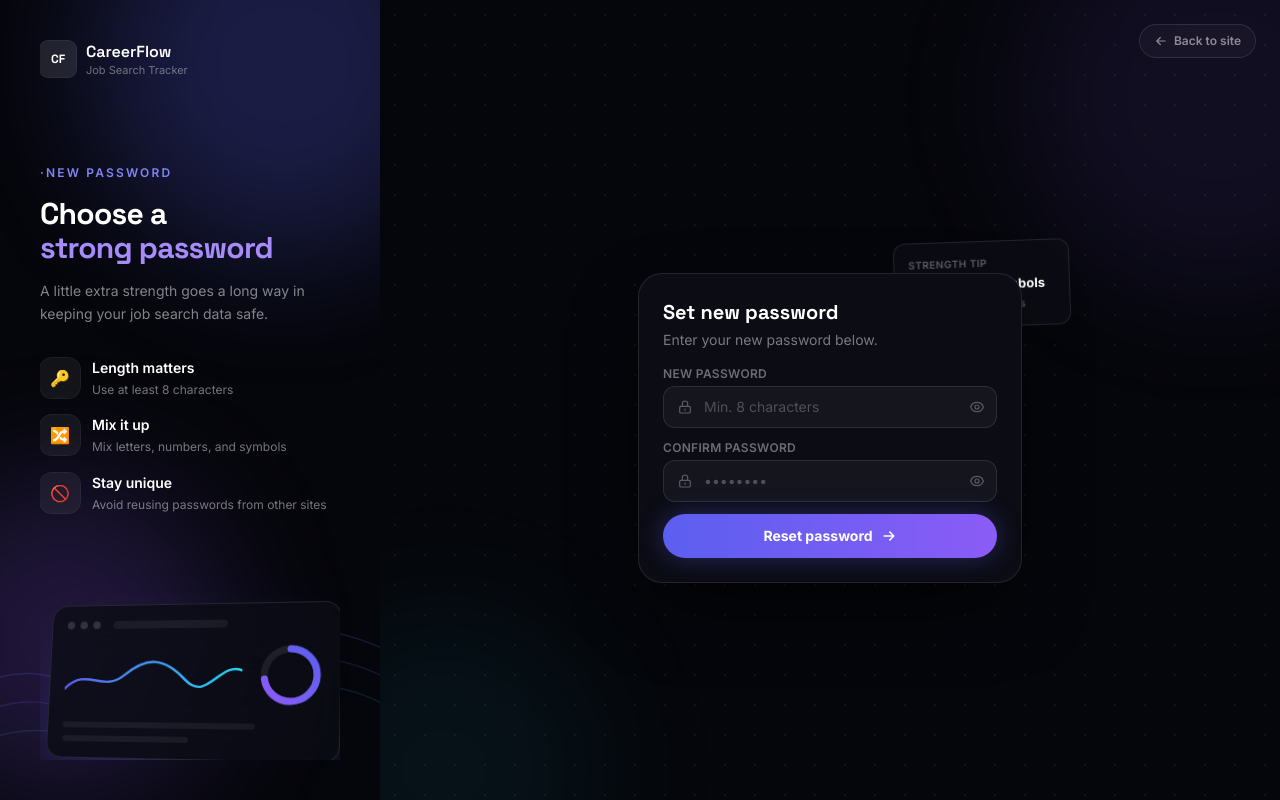
Test: ResetPassword › shows the server message when the reset fails
This screenshot has width=1280, height=800.
Type "newpass123" into the password field with placeholder "Min. 8 characters" at (830, 407), box [663,386,997,428]
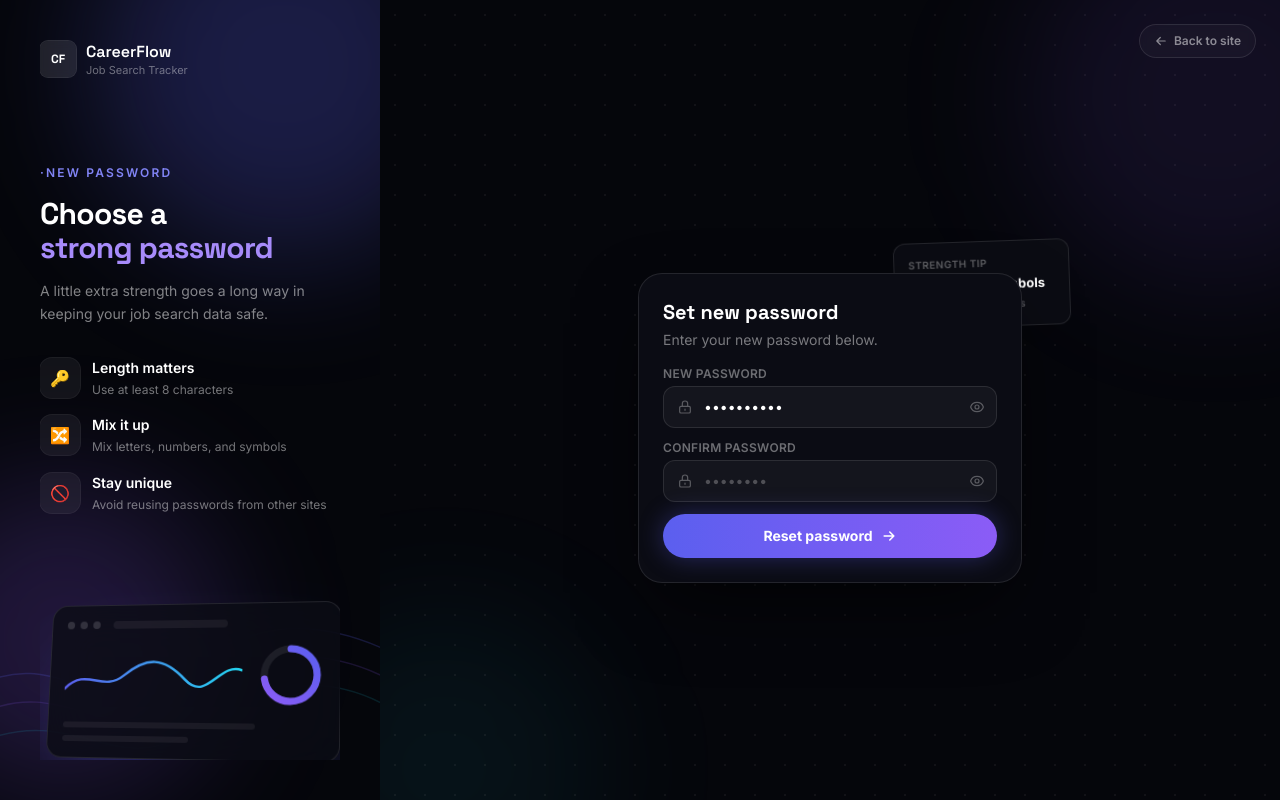
Type "newpass123" into the password field with placeholder "••••••••" at (830, 481), box [663,460,997,502]
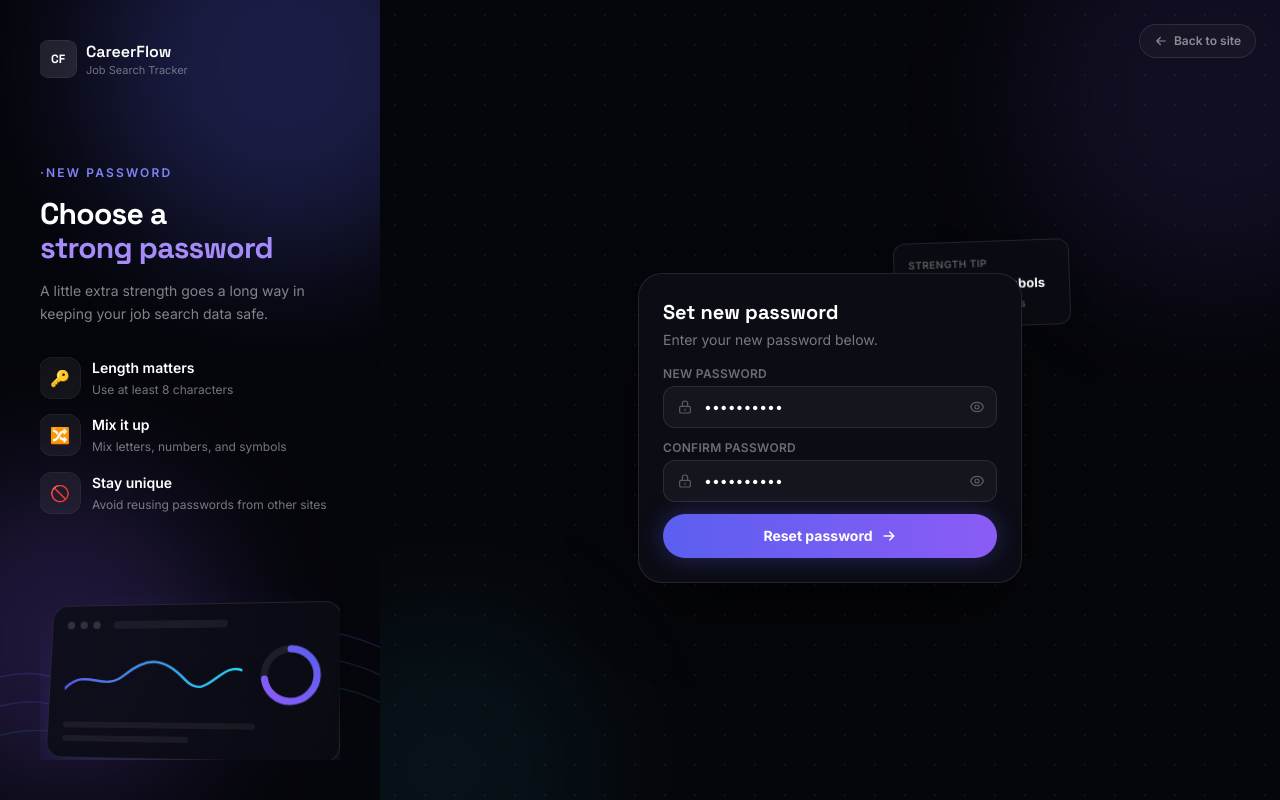
Click the button "Reset password" at (830, 536), box [663,514,997,558]
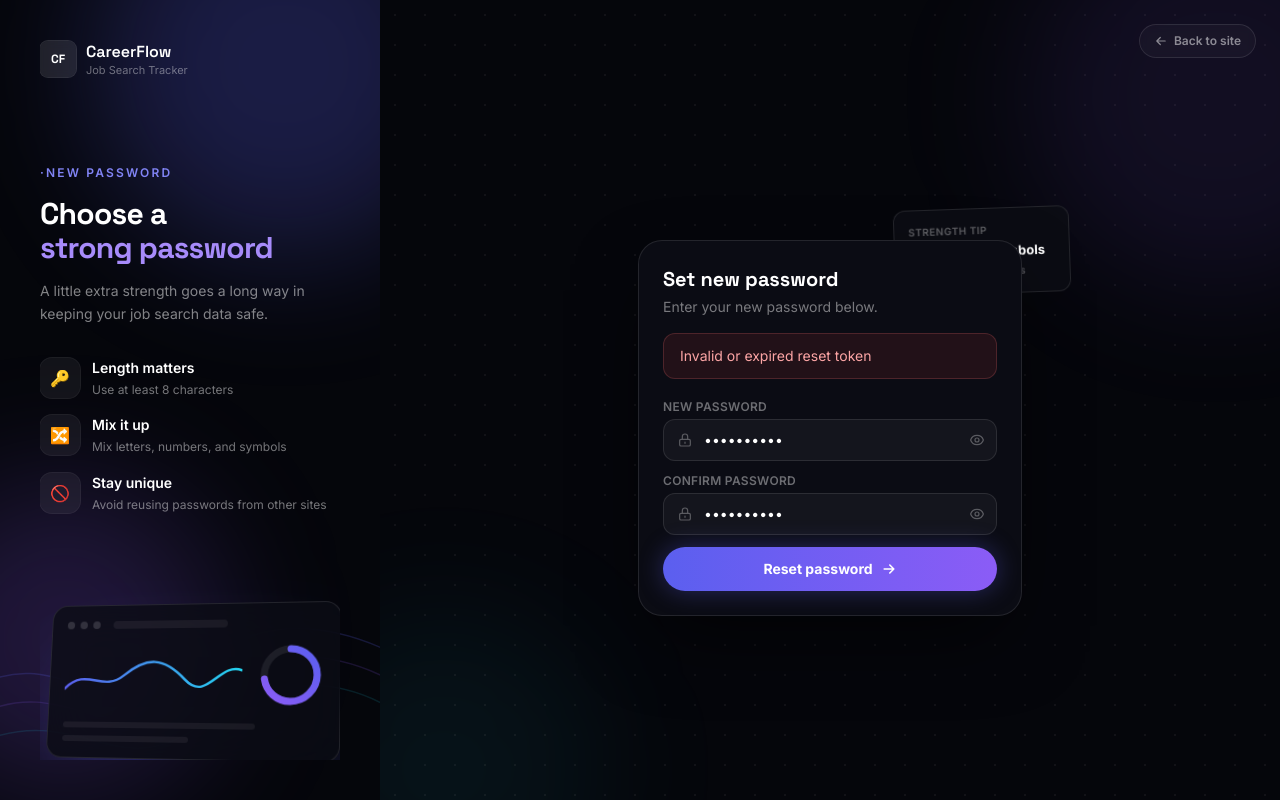
Expected: the text "Invalid or expired reset token" is shown, [663,333,997,379]
